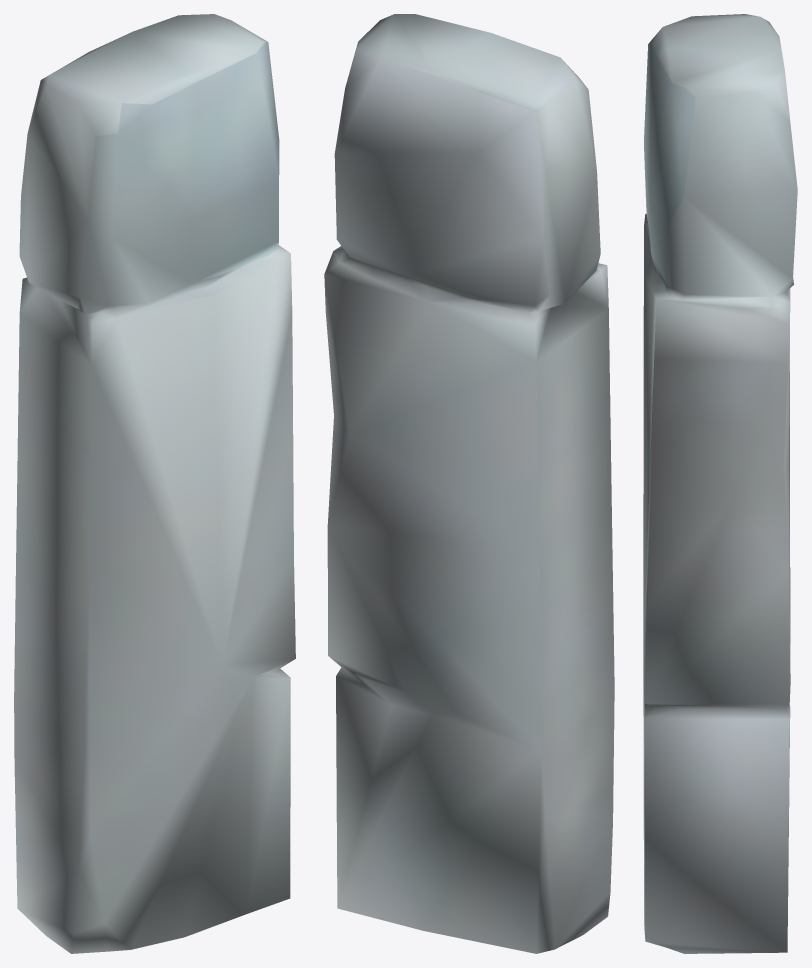
The model's file is P_CubicCliffPiece03.obj.
3 views of the same model, side by side, from view 1: azimuth 30°, elevation 25°; view 2: azimuth 150°, elevation 25°; view 3: azimuth 270°, elevation 25° (orthographic).
Bounding box in the file's own units: 4.29 × 15.86 × 2.57.
